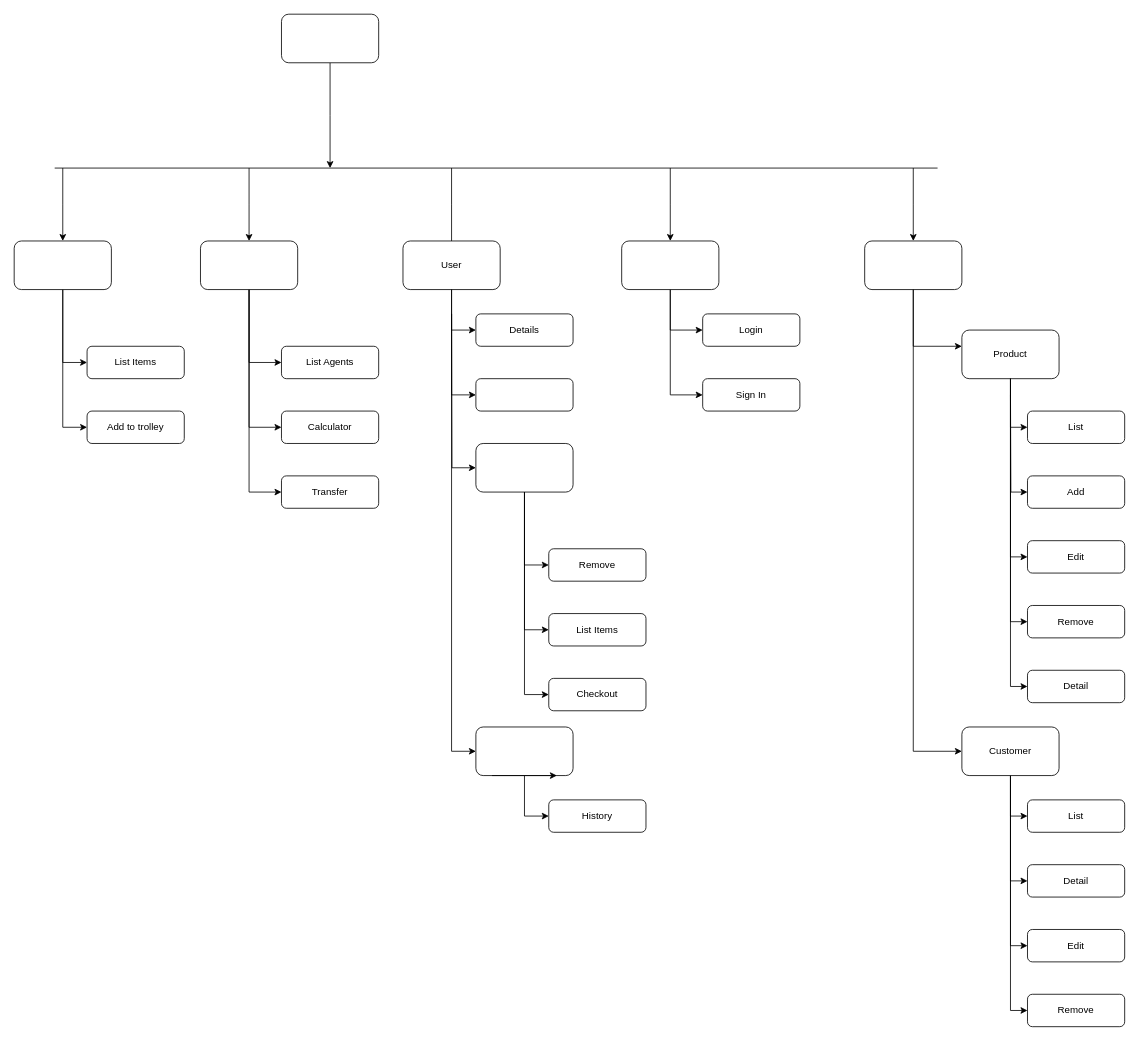
Some shapes in this 1139 by 1041 pixel diagram are drawn without their labels. The centre of each missing label's shape, as x and y in pixels:
Authentication: pixel 670 265
Exchanges: pixel 524 751
Home: pixel 330 38
Management: pixel 913 265
Market Place: pixel 62 265
Send Money: pixel 249 265
Trolley: pixel 524 467
Update: pixel 524 394
